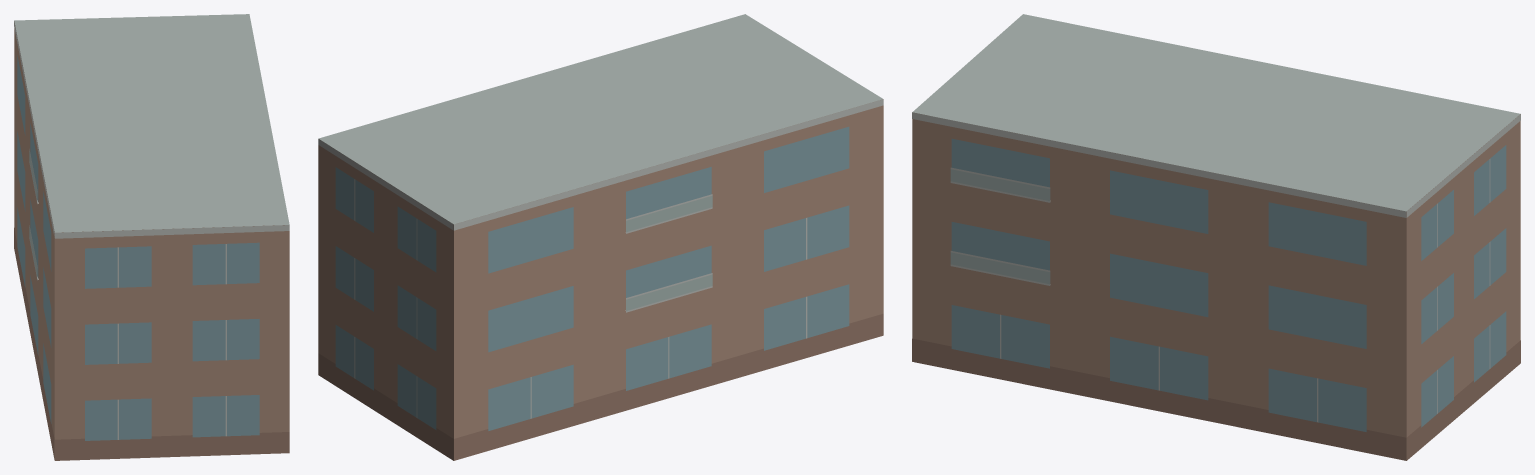
File: survey-upis-32705005.glb
3 views of the same model, side by side, from view 1: azimuth 30°, elevation 25°; view 2: azimuth 150°, elevation 25°; view 3: azimuth 270°, elevation 25° (orthographic). The views are drawn at different scales.
Visible parts, largest first — view 1: survey-upis-32705005.tmp; view 2: survey-upis-32705005.tmp; view 3: survey-upis-32705005.tmp.
Boxes of the visible parts, box(x1,y1,x2,y2) form: survey-upis-32705005.tmp: box(14, 14, 289, 460); survey-upis-32705005.tmp: box(318, 14, 883, 460); survey-upis-32705005.tmp: box(912, 14, 1520, 460).
Bounding box in the file's own units: 15.54 × 9.15 × 20.24.
